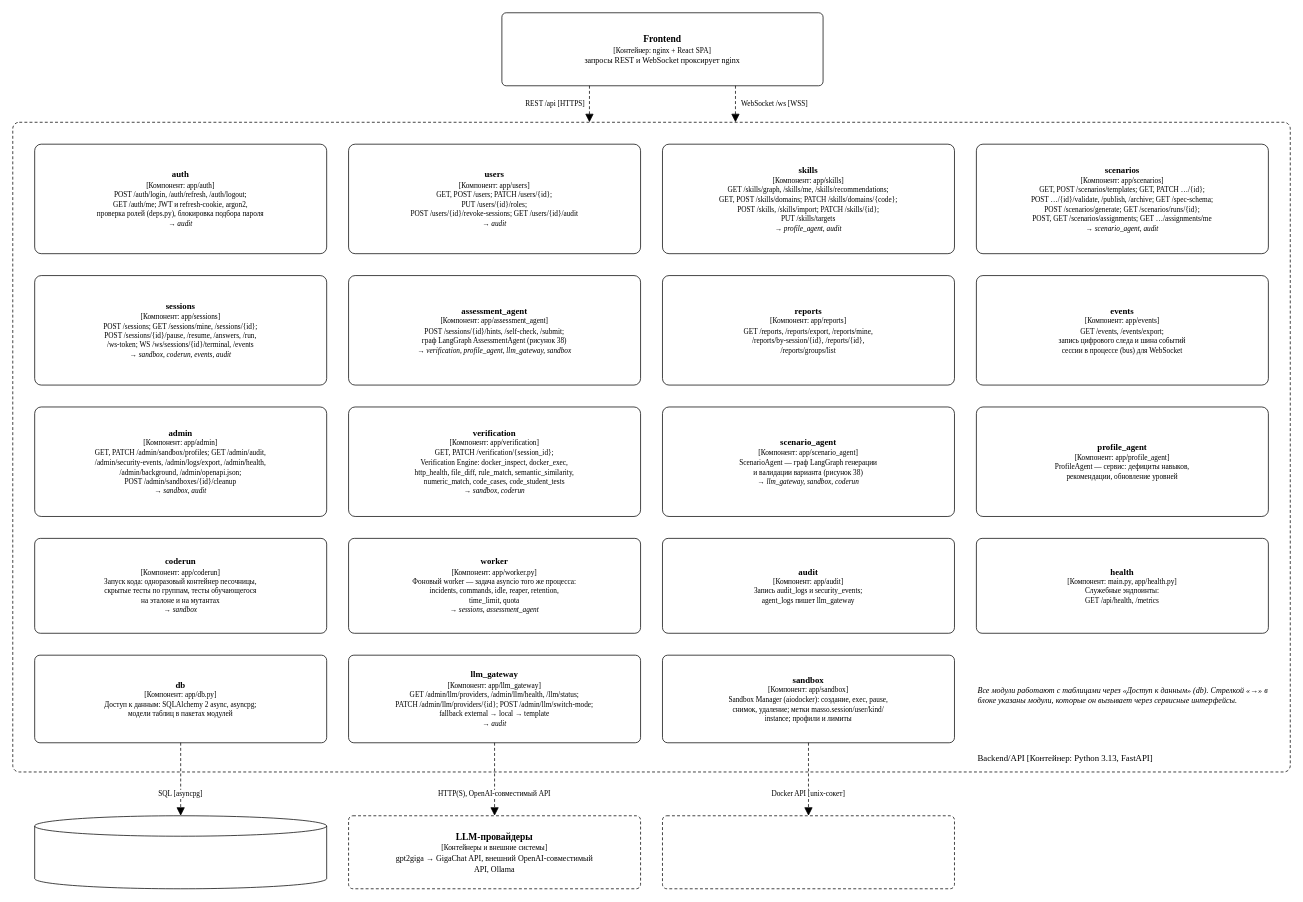
Image size: 1303x902. Some labels were removed from this diagram. Here are the shapes that lost their labels. From the top down, the centre of each, then its label:
At pixel 180 852: "PostgreSQL 18 + pgvector [Контейнер]".
At pixel 808 852: "Docker Engine [Внешняя система] учебные среды и контейнеры запуска кода".
